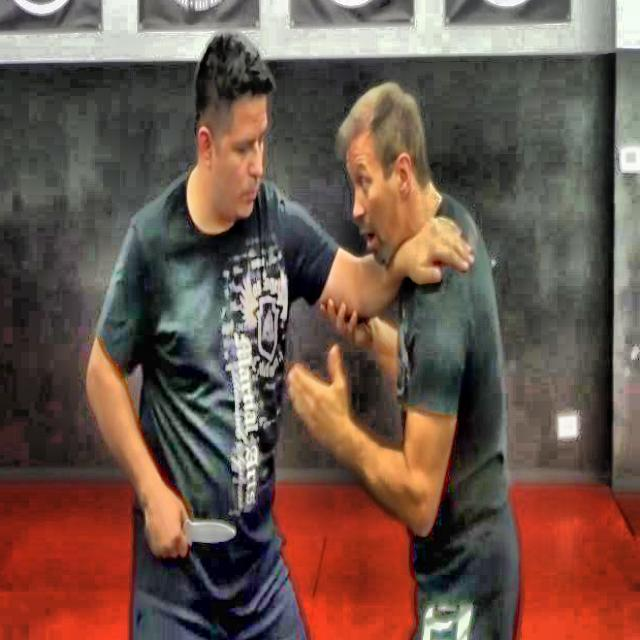knife: (183, 519, 234, 543)
